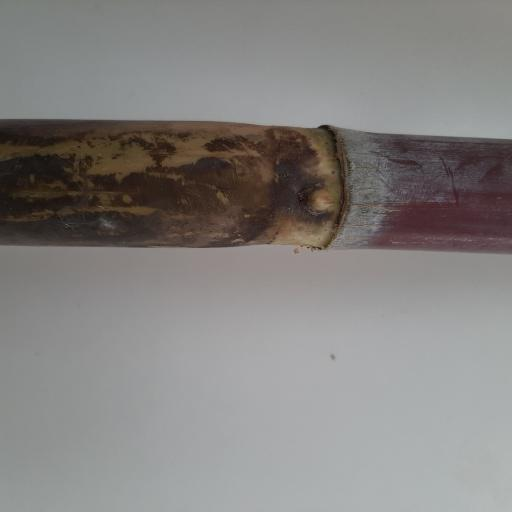Bud: (304, 189, 339, 213)
